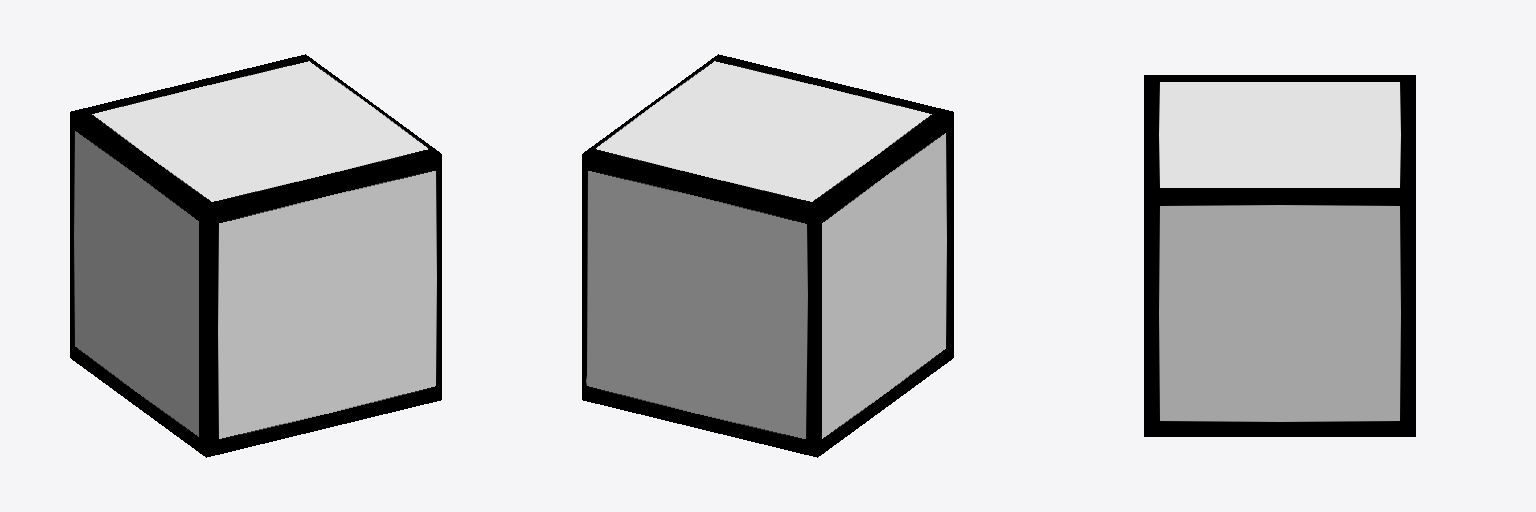
3 views of the same model, side by side, from view 1: azimuth 30°, elevation 25°; view 2: azimuth 150°, elevation 25°; view 3: azimuth 270°, elevation 25° (orthographic).
Visible parts, largest first — view 1: Cube; view 2: Cube; view 3: Cube.
Boxes of the visible parts, x1,y1,x2,y2 form: Cube: [70, 54, 441, 457]; Cube: [582, 54, 953, 457]; Cube: [1144, 75, 1415, 436].
Size of the model in its own units: 2 by 2 by 2.
Materials: 1 (1 with a texture image).